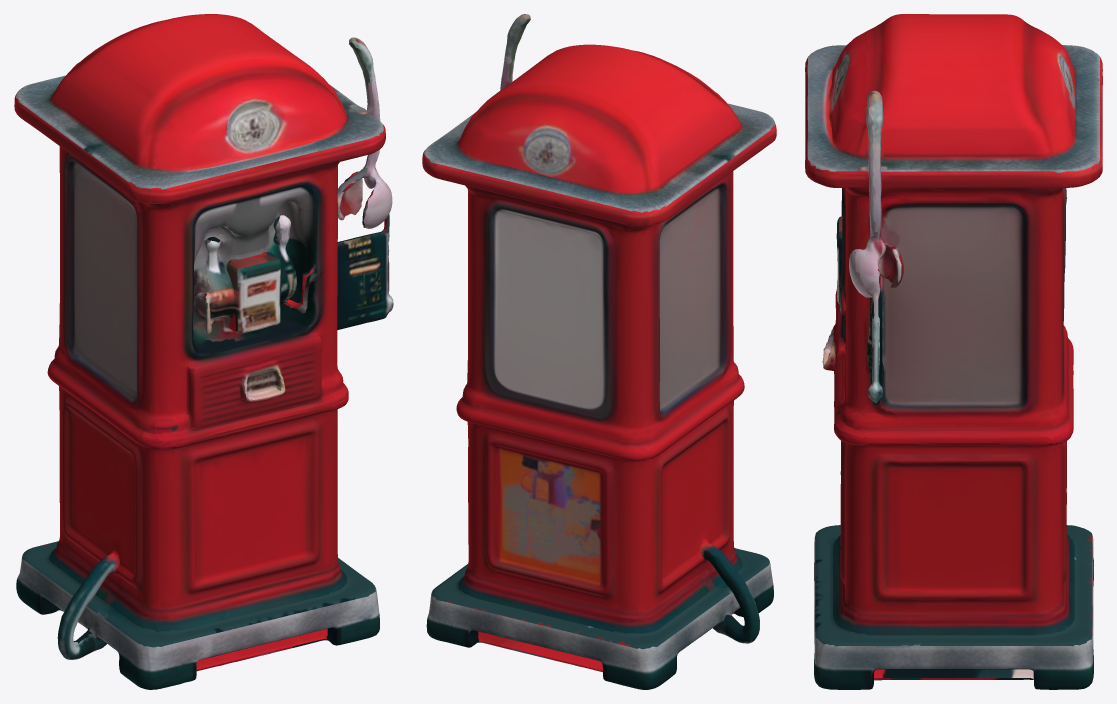
The model's file is surtidor_nafta.glb.
3 renders of one model, left to right at view 1: azimuth 30°, elevation 25°; view 2: azimuth 150°, elevation 25°; view 3: azimuth 270°, elevation 25°, orthographic. The views are drawn at different scales.
Parts seen in each view (by area): view 1: tmpjx6bbf5s.ply; view 2: tmpjx6bbf5s.ply; view 3: tmpjx6bbf5s.ply.
Part boxes in pixels (left/top/right/bottom): tmpjx6bbf5s.ply: left=14, top=14, right=393, bottom=689; tmpjx6bbf5s.ply: left=422, top=14, right=776, bottom=689; tmpjx6bbf5s.ply: left=805, top=14, right=1102, bottom=689.
Size of the model in its own units: 0.5539 by 0.9928 by 0.4457.
Materials: 1 (1 with a texture image).
